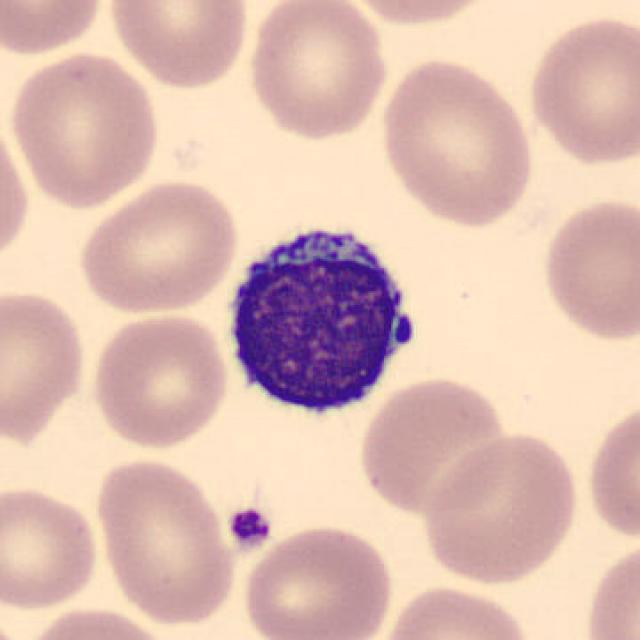Lymphocyte: (217, 206, 428, 430)
Platelets: (224, 504, 276, 552)
RBC: (375, 53, 539, 229), (418, 427, 583, 587), (5, 48, 164, 210), (91, 453, 238, 628), (73, 176, 243, 318), (354, 372, 512, 517), (87, 308, 233, 452), (244, 0, 391, 143), (238, 520, 396, 640), (523, 11, 638, 168), (537, 192, 638, 346), (0, 284, 91, 449), (103, 0, 253, 92), (0, 482, 103, 614), (375, 582, 535, 640), (583, 396, 638, 546), (0, 0, 107, 60), (579, 537, 638, 640), (17, 604, 174, 640), (0, 113, 32, 270), (339, 0, 502, 30)
